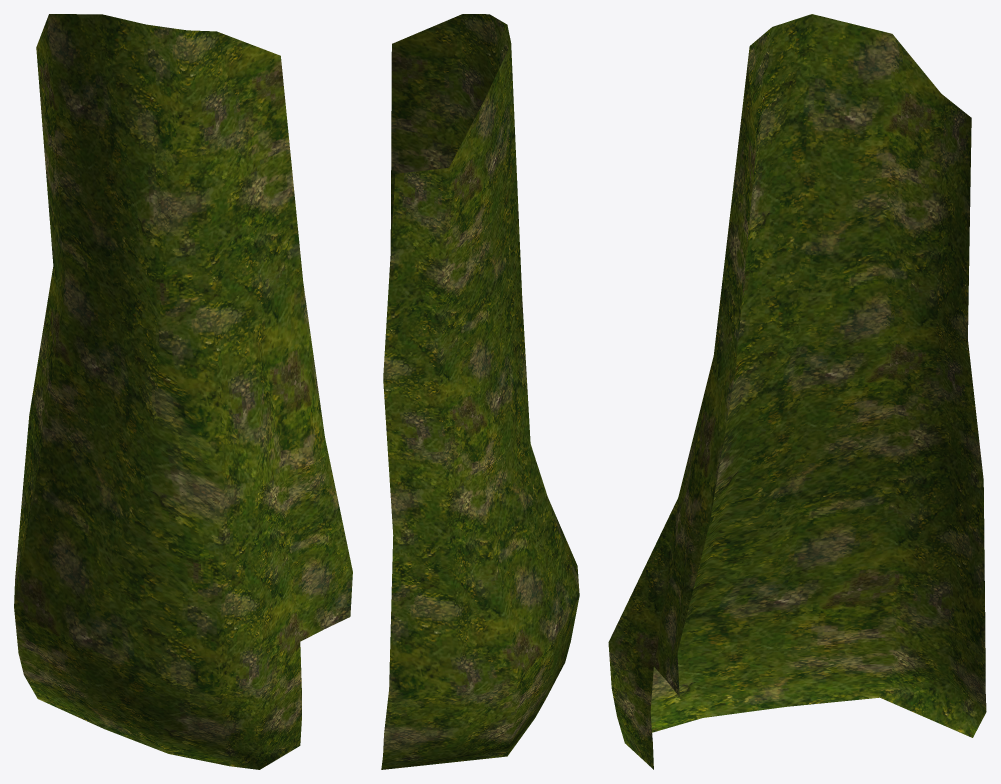
The model's file is OVERHILL_A_01_OBJECT21.fbx.
3 views of the same model, side by side, from view 1: azimuth 30°, elevation 25°; view 2: azimuth 150°, elevation 25°; view 3: azimuth 270°, elevation 25° (orthographic). The views are drawn at different scales.
Parts seen in each view (by area): view 1: OVERHILL_A_01_OBJECT21; view 2: OVERHILL_A_01_OBJECT21; view 3: OVERHILL_A_01_OBJECT21.
Part boxes in pixels (box(x1,y1,x2,y2)): OVERHILL_A_01_OBJECT21: box(14, 14, 352, 769); OVERHILL_A_01_OBJECT21: box(381, 14, 579, 769); OVERHILL_A_01_OBJECT21: box(608, 14, 986, 769).
Size of the model in its own units: 40592 by 118192 by 57975.
Materials: 1 (1 with a texture image).
